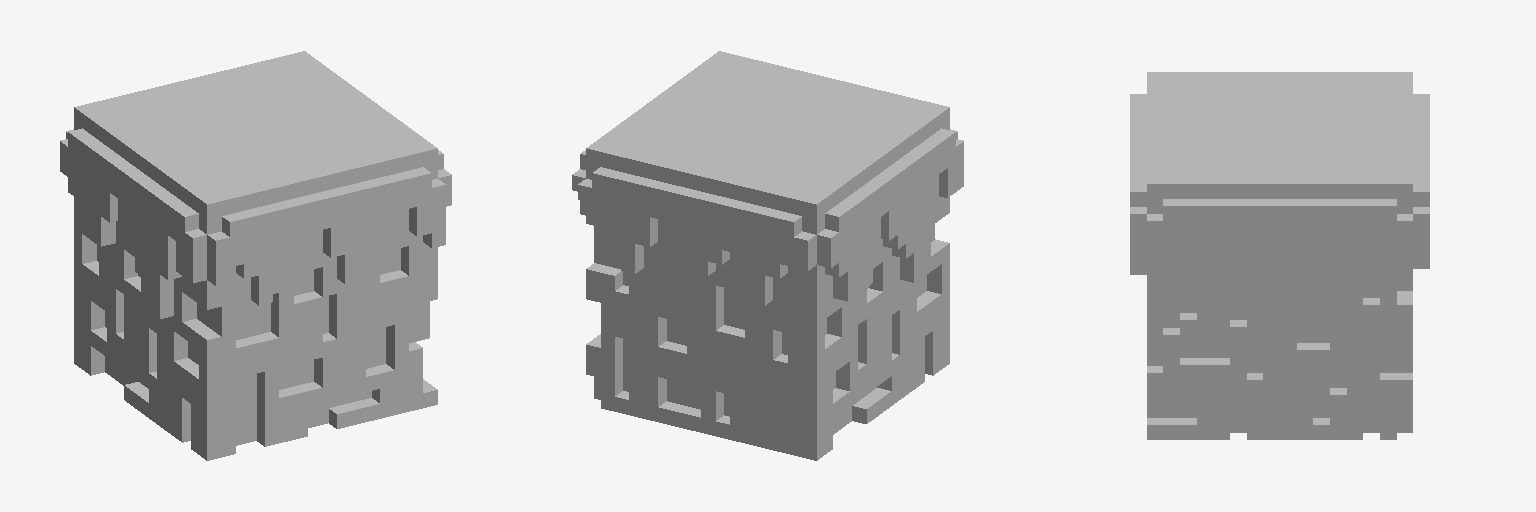
File: grass_block.obj
3 views of the same model, side by side, from view 1: azimuth 30°, elevation 25°; view 2: azimuth 150°, elevation 25°; view 3: azimuth 270°, elevation 25° (orthographic).
Visible parts, largest first — view 1: object 1; view 2: object 1; view 3: object 1.
Part boxes in pixels (x1,y1,x2,y2): object 1: (60,51,451,460); object 1: (572,51,963,460); object 1: (1130,72,1429,439).
Size of the model in its own units: 1.8 by 1.7 by 1.8.